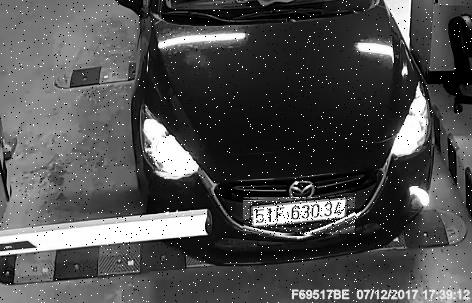License-plate: (245, 199, 358, 237)
